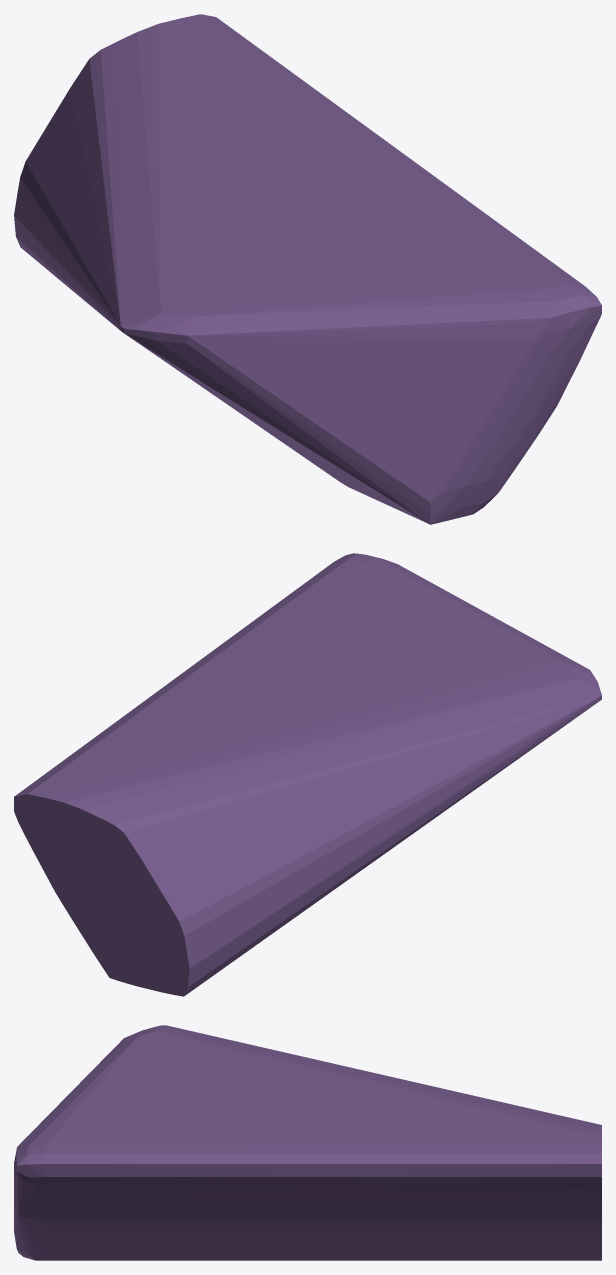
The model's file is left_shoulder_roll_link_part_1.obj.
3 renders of one model, top to bottom at view 1: azimuth 30°, elevation 25°; view 2: azimuth 150°, elevation 25°; view 3: azimuth 270°, elevation 25°, orthographic. The views are drawn at different scales.
Bounding box in the file's own units: 0.0183 × 0.0087 × 0.0322.
